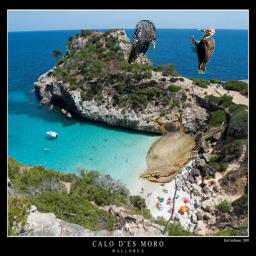Crow: (128, 20, 157, 64)
Sparrow: (138, 113, 224, 184)
Woodpecker: (191, 28, 216, 74)
